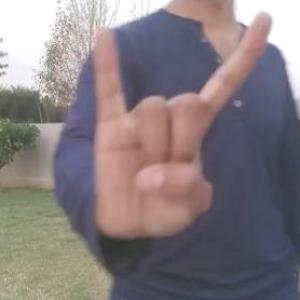takeoff-hand: (84, 1, 283, 252)
